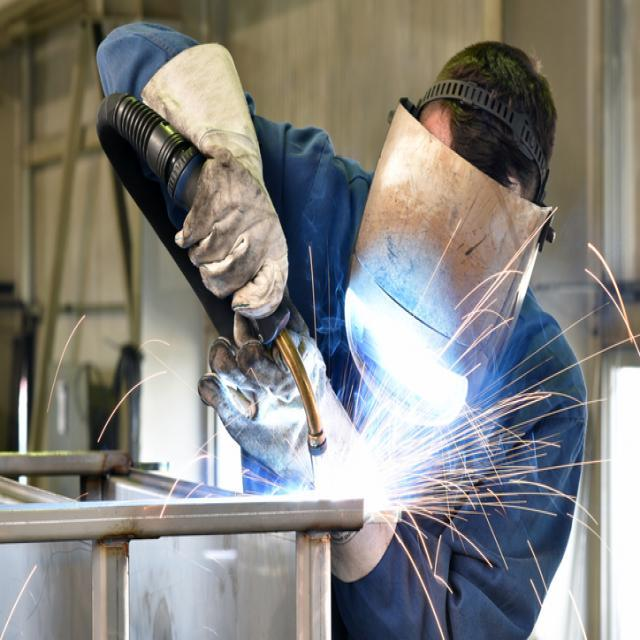with_helmet: (345, 99, 557, 442)
